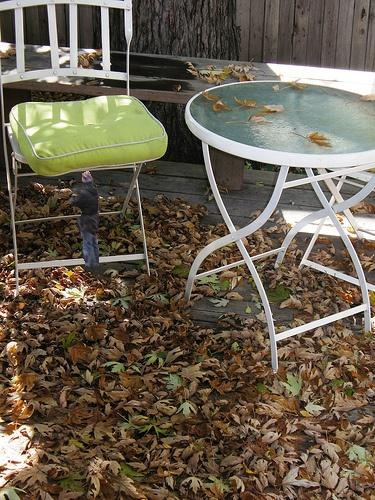tampered: (70, 172, 99, 267)
